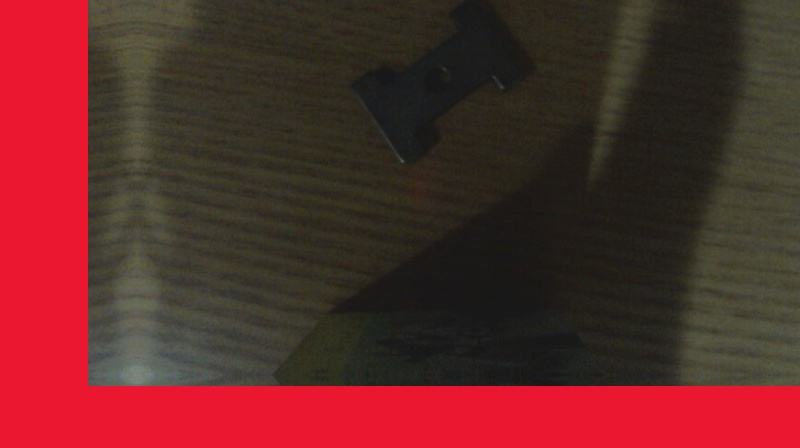O002: (348, 0, 535, 166)
